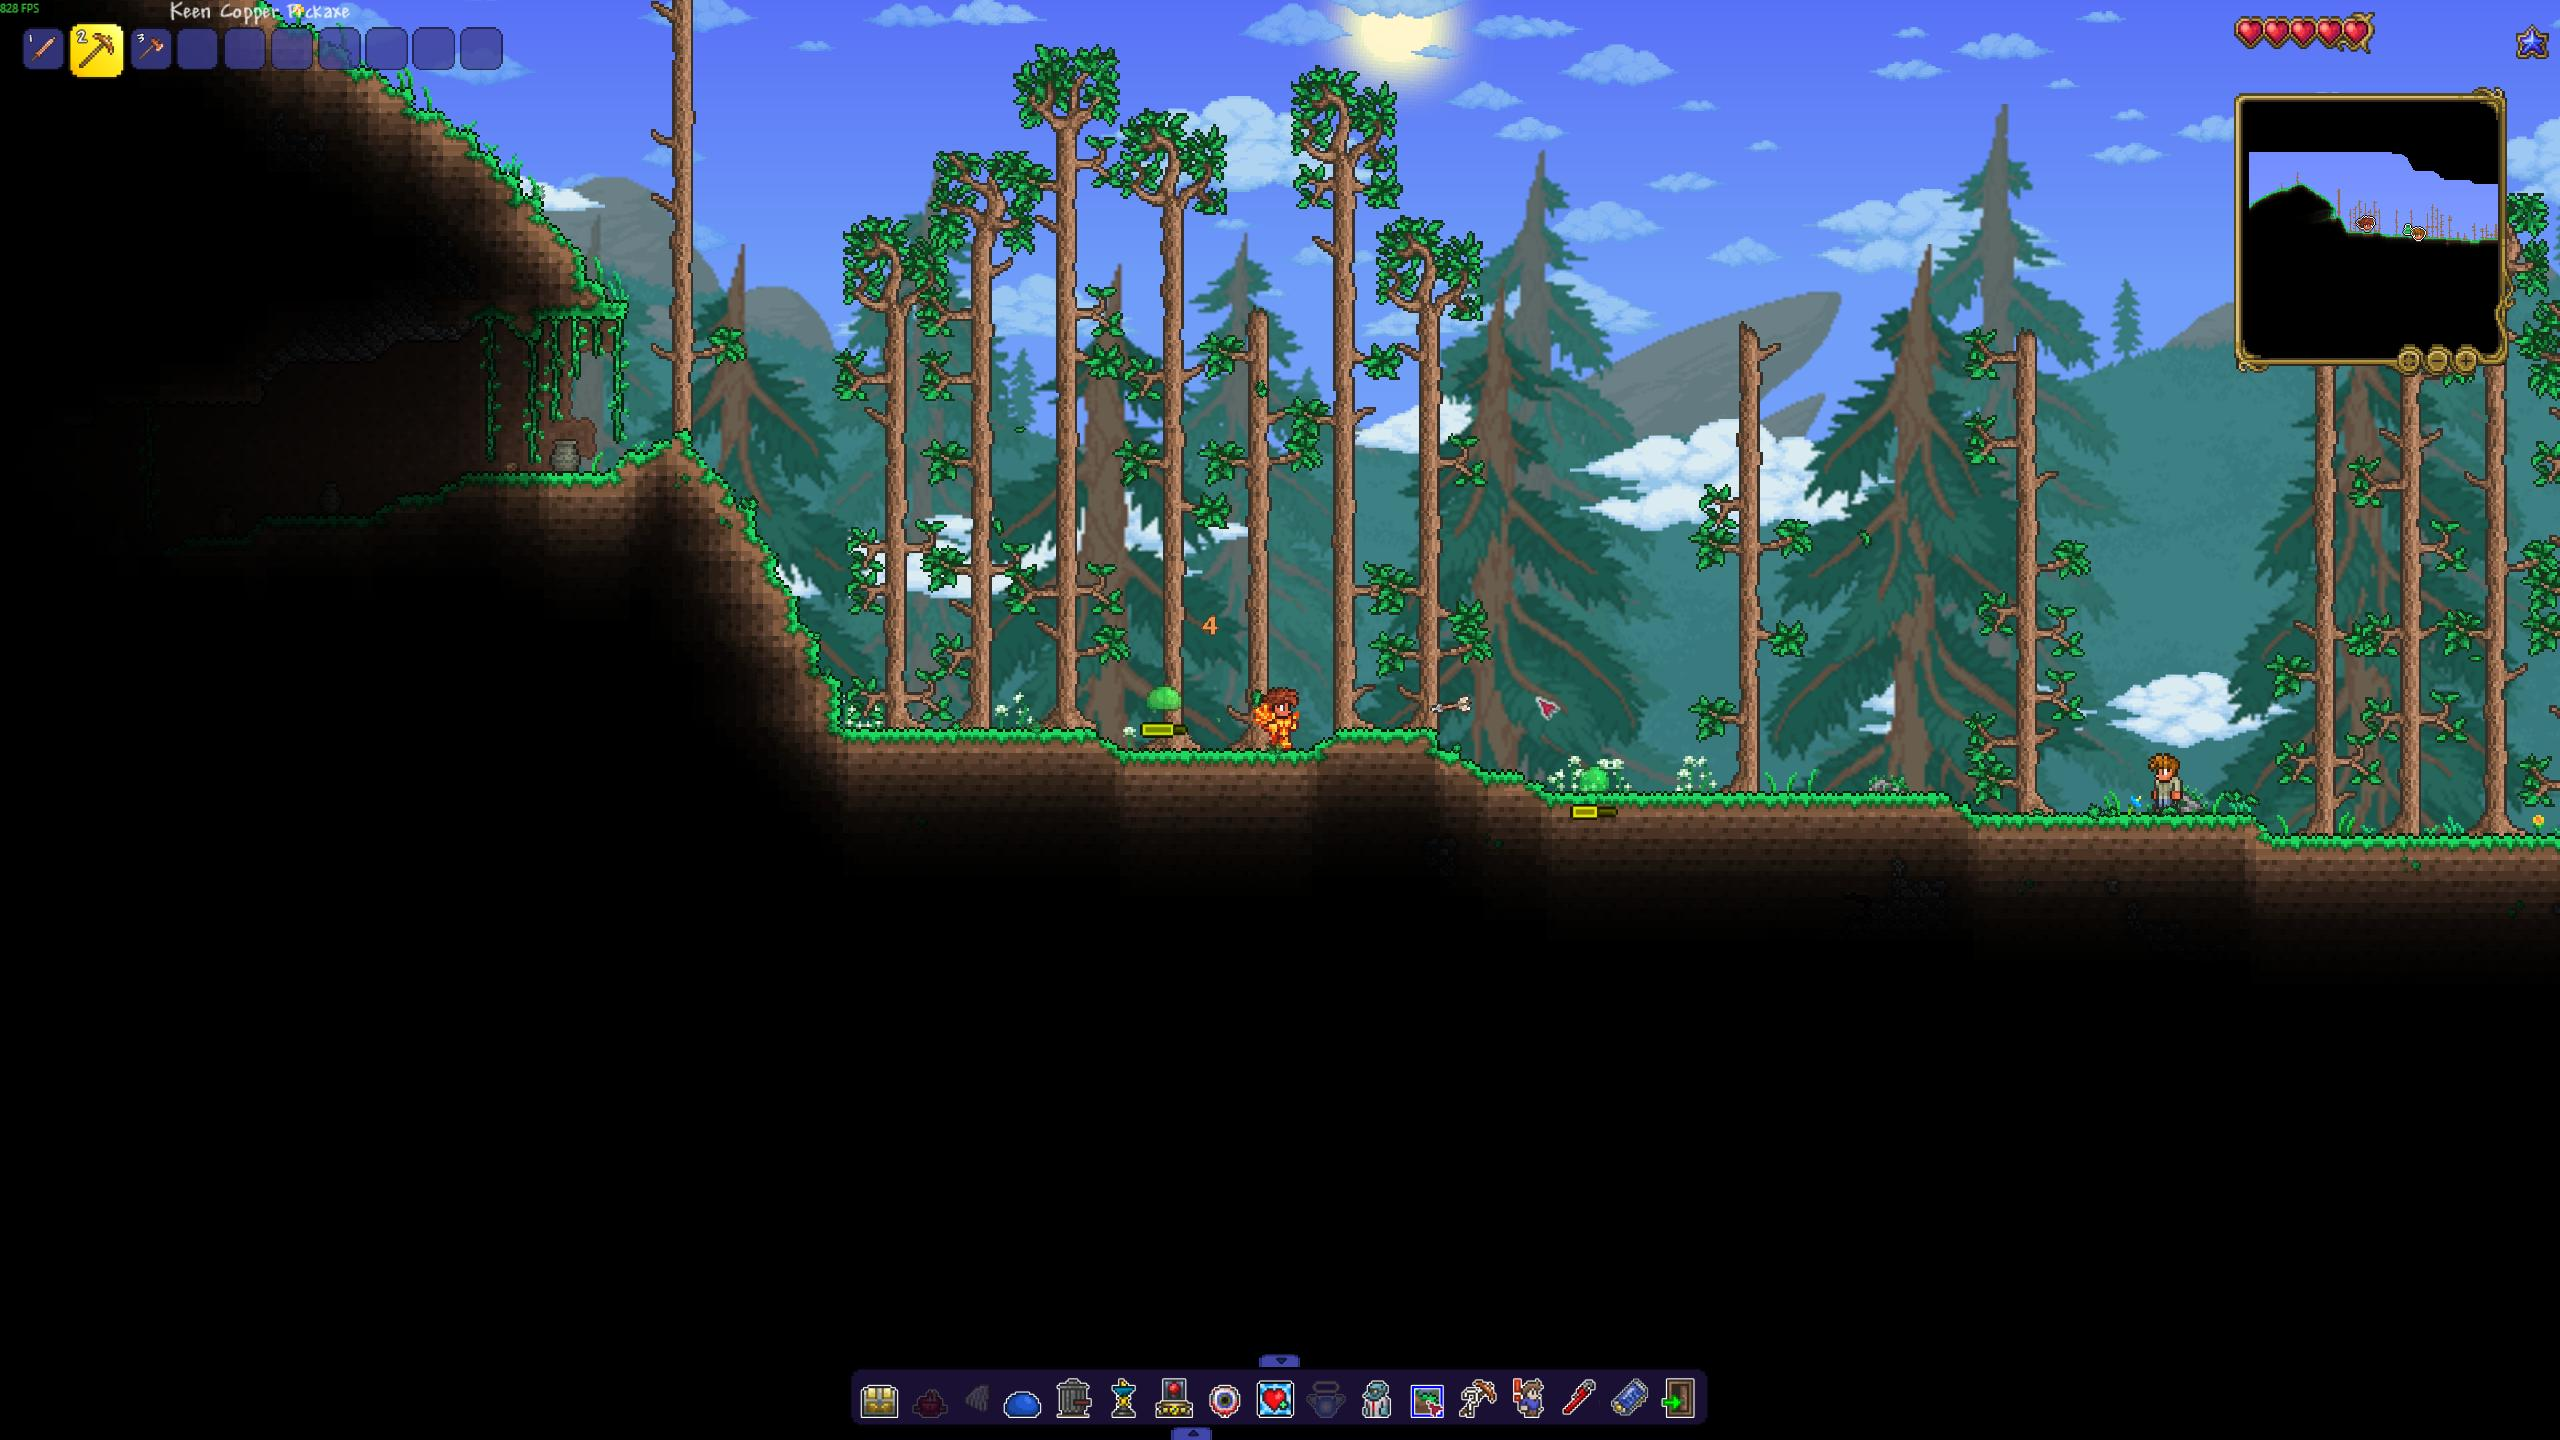Green Slime: (1574, 761, 1612, 798), (1145, 686, 1185, 712)
